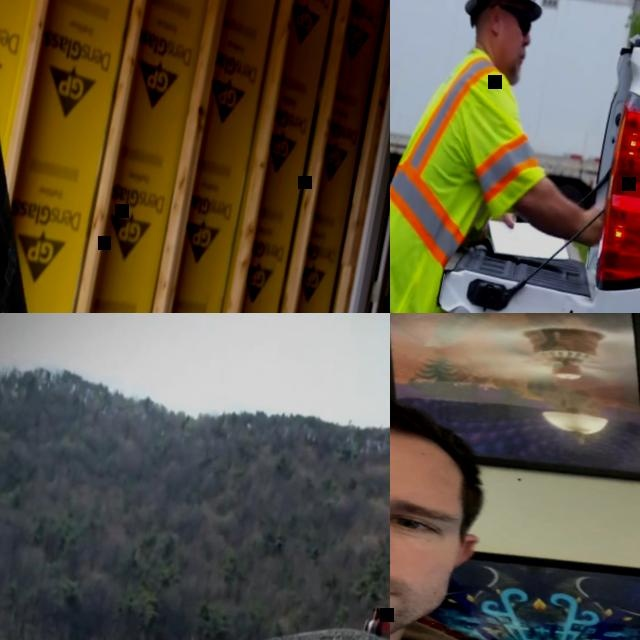Hardhat: (462, 0, 553, 28)
NO-Hardhat: (390, 368, 490, 484)
NO-Mask: (390, 503, 472, 640), (488, 31, 528, 81)
Person: (390, 0, 640, 313), (390, 335, 640, 640)
Safety Vest: (390, 41, 560, 288)
vehicle: (397, 0, 640, 313)
